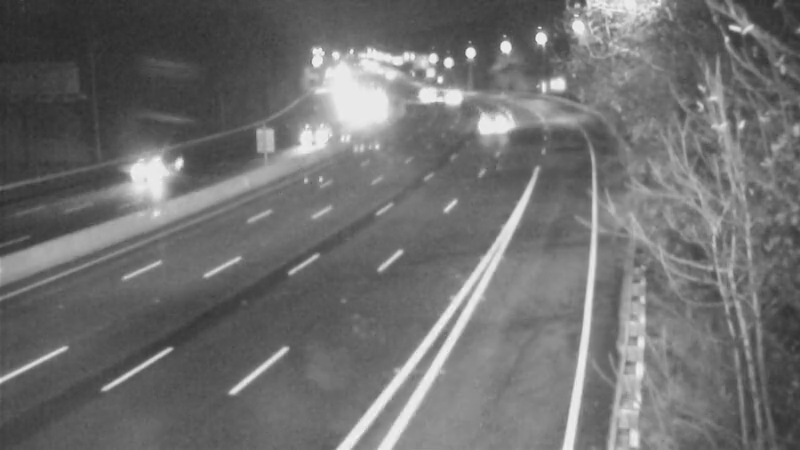vehicle: (119, 134, 199, 214), (400, 69, 450, 119), (424, 69, 474, 119), (461, 98, 511, 148), (287, 111, 337, 161)
